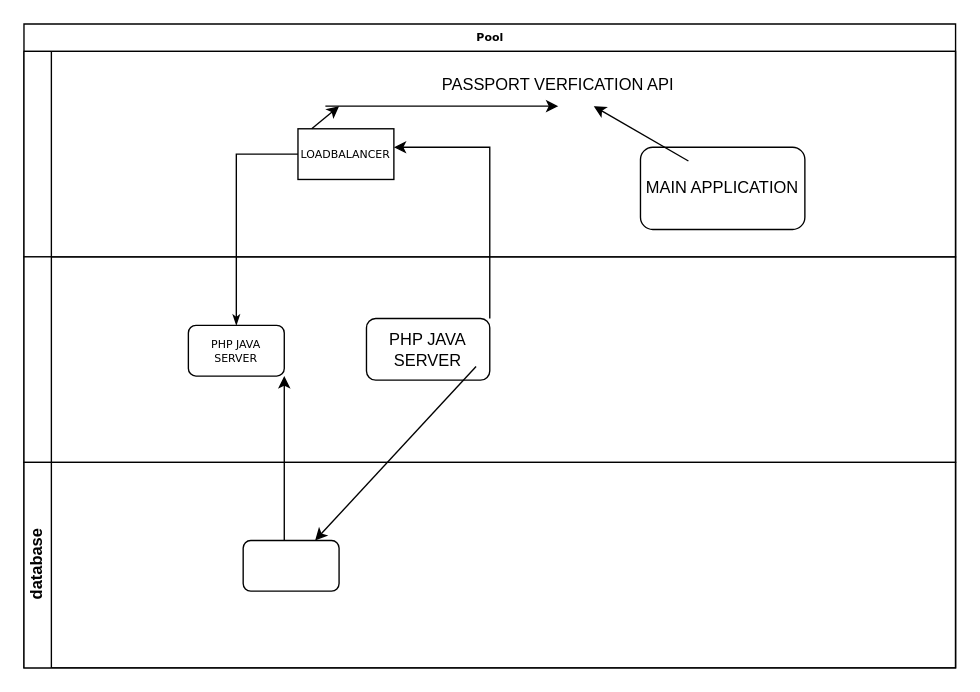
The diagram is 980 pixels wide and 692 high, and some of its shapes have lost their labels. Here are the shapes that lost their labels. From the top down, the box of each, then its label:
(23, 50, 956, 257): PHYSICAL SERVER
(23, 256, 956, 462): PHYSICAL MACHINE
(242, 539, 339, 591): mysql
